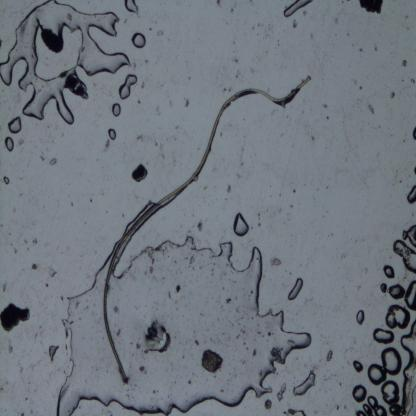Air bubble: (40, 227, 315, 415), (0, 0, 130, 125), (400, 320, 416, 416), (366, 348, 402, 386), (392, 239, 416, 274), (382, 303, 411, 331), (117, 70, 139, 100), (291, 373, 316, 398), (380, 379, 403, 406), (283, 0, 310, 19), (232, 211, 250, 237), (371, 326, 396, 344), (368, 396, 388, 416), (403, 280, 416, 310), (400, 223, 416, 247), (288, 277, 303, 302), (7, 114, 24, 136), (387, 284, 406, 302), (129, 30, 147, 48), (47, 341, 60, 364), (352, 383, 367, 402), (124, 0, 139, 16), (110, 102, 123, 119), (277, 382, 288, 402), (406, 186, 416, 204), (384, 264, 396, 279), (4, 136, 15, 151), (356, 309, 366, 325), (286, 408, 306, 416), (389, 404, 402, 416), (353, 360, 364, 374), (362, 404, 373, 415), (109, 129, 119, 140), (326, 350, 333, 363), (48, 157, 58, 166), (2, 176, 10, 184), (357, 410, 366, 416)
Background material: (138, 319, 172, 356), (0, 300, 32, 334), (63, 72, 89, 103), (197, 346, 223, 376), (40, 28, 66, 56), (129, 162, 149, 186), (266, 342, 285, 363), (358, 0, 384, 15), (47, 265, 57, 279), (148, 253, 157, 266), (230, 1, 237, 16), (367, 101, 375, 114), (270, 257, 283, 265), (264, 400, 274, 410), (188, 254, 197, 264), (196, 222, 204, 233), (156, 243, 164, 254), (164, 288, 171, 300), (155, 27, 164, 36), (290, 18, 298, 28), (104, 139, 112, 148), (130, 60, 137, 70), (251, 348, 258, 358), (1, 282, 7, 293), (372, 41, 378, 52), (31, 262, 39, 270), (412, 126, 416, 142), (332, 16, 340, 24), (30, 237, 39, 244), (225, 185, 232, 194), (8, 342, 13, 354), (390, 89, 396, 99), (18, 137, 25, 145), (306, 34, 314, 41), (57, 294, 64, 302), (140, 366, 147, 374), (215, 0, 222, 8), (12, 247, 18, 255), (18, 366, 24, 374), (256, 222, 262, 230), (356, 47, 364, 53), (140, 81, 146, 89), (74, 301, 80, 309), (310, 134, 316, 142), (410, 78, 416, 86), (174, 285, 182, 291), (136, 134, 142, 142), (184, 99, 190, 107), (0, 385, 5, 394), (402, 58, 407, 67), (114, 304, 119, 313), (40, 154, 46, 161), (240, 328, 247, 334), (233, 56, 239, 63), (258, 21, 264, 28), (116, 328, 121, 336), (242, 358, 247, 366), (168, 98, 173, 106), (107, 284, 111, 294), (249, 67, 254, 75), (256, 211, 260, 220), (248, 26, 255, 31), (226, 297, 231, 304), (235, 305, 239, 313), (149, 266, 153, 274), (24, 246, 30, 251), (69, 320, 75, 325), (404, 14, 409, 20), (322, 103, 328, 108), (221, 88, 227, 93), (194, 338, 199, 344), (64, 343, 68, 350), (34, 332, 38, 339), (219, 387, 224, 392), (292, 188, 297, 193), (19, 412, 25, 416), (8, 242, 12, 248), (124, 16, 127, 24), (346, 31, 350, 37), (358, 84, 362, 90), (413, 167, 416, 175), (235, 72, 238, 79), (236, 334, 241, 338), (152, 389, 156, 394), (19, 176, 24, 180), (62, 370, 66, 375), (191, 266, 195, 271), (30, 410, 34, 415), (229, 87, 233, 92), (70, 201, 74, 206), (144, 58, 148, 63), (268, 332, 272, 337), (336, 405, 340, 410), (24, 397, 28, 401), (23, 239, 27, 243), (290, 204, 293, 209), (149, 26, 152, 31), (248, 0, 253, 3), (121, 213, 124, 218), (251, 290, 254, 295), (188, 380, 191, 384), (211, 268, 214, 272), (187, 77, 191, 80), (340, 0, 344, 3), (339, 382, 342, 386), (156, 389, 159, 393), (138, 100, 140, 105), (90, 197, 92, 202), (246, 348, 249, 351), (8, 232, 11, 235), (0, 224, 3, 227), (144, 304, 147, 307), (251, 317, 254, 320), (326, 116, 329, 119), (258, 331, 261, 334), (211, 273, 214, 276), (174, 380, 176, 384), (46, 284, 48, 288), (20, 193, 22, 197), (244, 342, 246, 346), (163, 276, 165, 279), (168, 395, 170, 398), (201, 314, 202, 315)
Microfibre: (104, 75, 311, 384)
